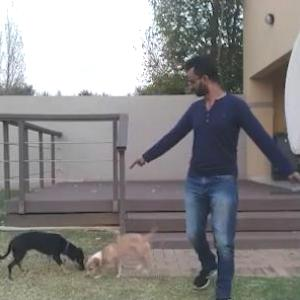land: (105, 36, 300, 299)
